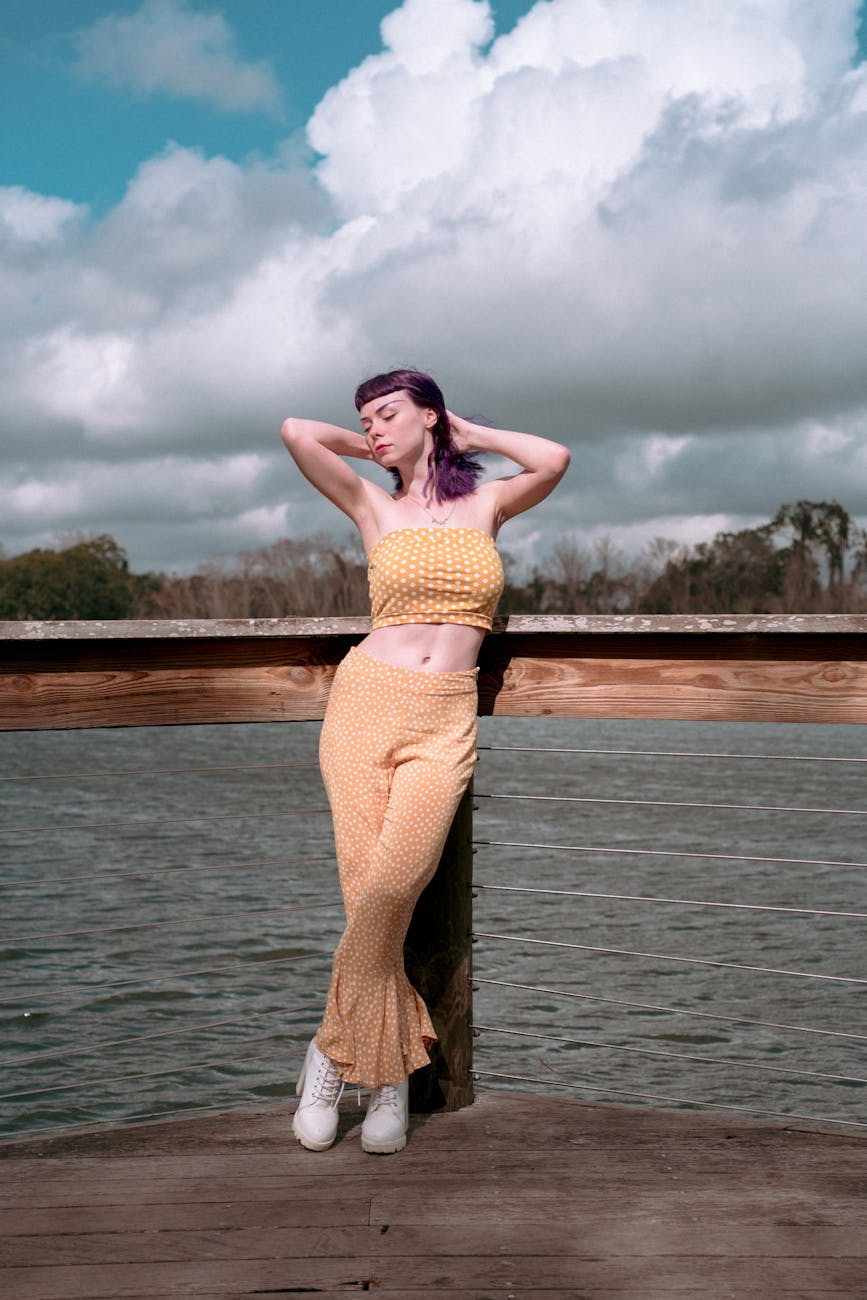crop_top: (331, 453, 520, 635)
